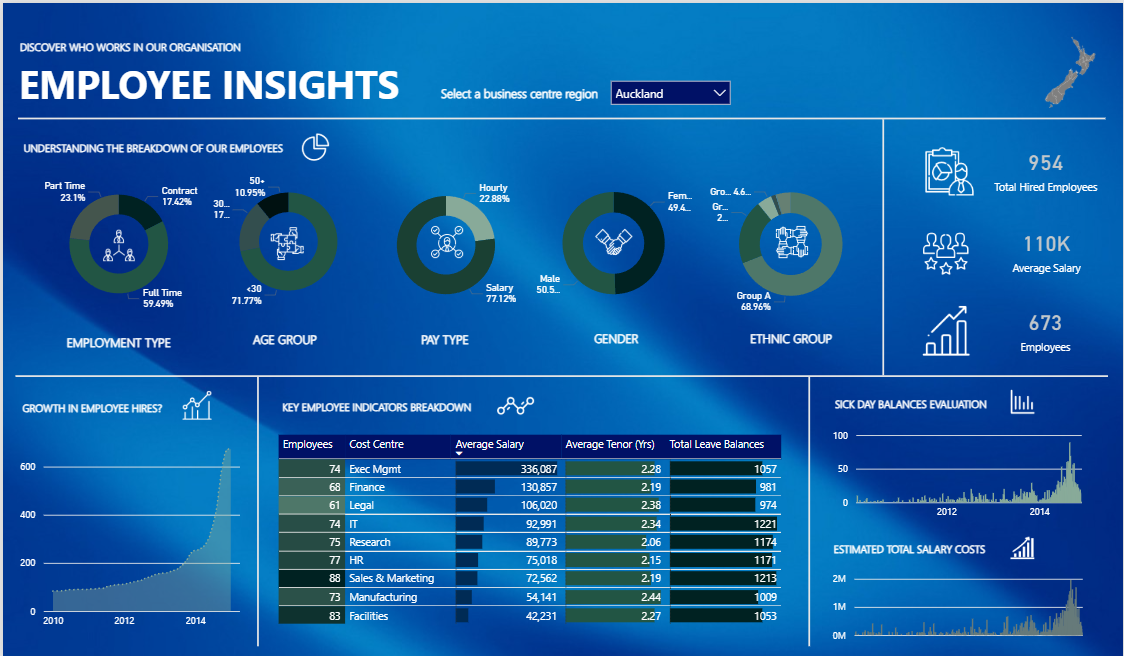

The dashboard page shown, as its layout file describes it:
{"tool":"powerbi","page":{"name":"Page 1","canvas":[1280,720],"ordinal":0},"visuals":[{"type":"image","box":[1153.7,0,119.9,96.6],"z":0},{"type":"textbox","box":[12.7,28.7,476.6,72.2],"z":1},{"type":"donutChart","fields":{"Y":["Key Metrics.Total Salary Cost"],"Category":["Employee Data.EthnicGroup"]},"box":[802.4,149.7,195.3,194.2],"z":2},{"type":"donutChart","fields":{"Y":["Key Metrics.Total Salary Cost"],"Category":["Employee Data.Gender"]},"box":[601.8,149.7,193.2,192.1],"z":3},{"type":"donutChart","fields":{"Y":["Key Metrics.Total Salary Cost"],"Category":["Employee Data.PayType"]},"box":[411.8,148.6,190,199.5],"z":4},{"type":"areaChart","fields":{"Category":["Date Table.Date"],"Y":["Key Metrics.Total Firm Hires"]},"box":[14.9,459.6,263.2,234.6],"z":5},{"type":"card","fields":{"Values":["Key Metrics.Total Hired Employees"]},"box":[1122.7,125.9,138,71.1],"z":6},{"type":"card","fields":{"Values":["Key Metrics.Average Salary"]},"box":[1130.8,218.2,122.8,71.1],"z":7},{"type":"card","fields":{"Values":["Key Metrics.Total Firm Hires"]},"box":[1135.9,310.6,111.7,68],"z":8},{"type":"textbox","box":[314.2,417.1,252.6,36.1],"z":9},{"type":"textbox","box":[14.9,6.4,289.8,36.1],"z":10},{"type":"textbox","box":[468.1,60.5,216.5,35],"z":11},{"type":"textbox","box":[944.6,579.5,238.8,36.1],"z":12},{"type":"textbox","box":[945.7,415,238.8,36.1],"z":13},{"type":"textbox","box":[19.1,122.1,336.5,35],"z":14},{"type":"textbox","box":[17,419.2,191,36.1],"z":15},{"type":"tableEx","fields":{"Values":["Key Metrics.Total Firm Hires","Employee Data.Cost Centre","Key Metrics.Average Salary","Key Metrics.Average Tenor","Key Metrics.Total Leave Balances"]},"box":[308.9,459.6,602.9,240.9],"z":16},{"type":"basicShape","box":[4.6,388.3,1268.6,18.5],"z":17},{"type":"basicShape","box":[985.6,94.4,40.6,312.6],"z":18},{"type":"basicShape","box":[903.2,388.5,37.1,328],"z":19},{"type":"basicShape","box":[272.4,388.3,37.1,328],"z":20},{"type":"basicShape","box":[7.1,94.4,1262.7,18.3],"z":21},{"type":"slicer","fields":{"Values":["Employee Data.Business Unit"]},"box":[684.6,49.9,157.1,46.7],"z":22},{"type":"textbox","box":[58.4,343.9,147.5,36.1],"z":23},{"type":"textbox","box":[445.8,341.8,118.9,36.1],"z":24},{"type":"textbox","box":[641.1,340.7,118.9,36.1],"z":25},{"type":"textbox","box":[841.7,339.6,118.9,36.1],"z":26},{"type":"textbox","box":[262.2,341.8,118.9,36.1],"z":27},{"type":"image","box":[1035.9,131.6,91.3,64.7],"z":28},{"type":"image","box":[1034.8,313.1,87,66.9],"z":29},{"type":"image","box":[1044.4,227.1,66.9,61.6],"z":30},{"type":"image","box":[106.1,225,54.1,45.6],"z":31},{"type":"image","box":[665.5,218.6,64.7,52],"z":32},{"type":"image","box":[289.8,222.9,70,47.8],"z":33},{"type":"image","box":[866.1,221.8,72.2,46.7],"z":34},{"type":"image","box":[477.6,221.8,60.5,46.7],"z":35},{"type":"image","box":[541.3,405.4,89.2,52],"z":36},{"type":"image","box":[188.9,409.7,66.9,42.5],"z":37},{"type":"image","box":[326.9,115.7,60.5,41.4],"z":38},{"type":"image","box":[1128.2,407.6,73.2,40.3],"z":39},{"type":"image","box":[1131.4,575.3,67.9,37.1],"z":40},{"type":"donutChart","fields":{"Y":["Key Metrics.Total Salary Cost"],"Category":["Employee Data.AgeGroup"]},"box":[231.8,144.7,189.9,199.8],"z":41},{"type":"donutChart","fields":{"Y":["Key Metrics.Total Salary Cost"],"Category":["Employee Data.Work Type"]},"box":[37,147.2,190.7,199.8],"z":42},{"type":"columnChart","fields":{"Category":["Date Table.Date"],"Y":["Key Metrics.Total Sick Days"]},"box":[942.5,452.1,306.7,118.9],"z":43},{"type":"columnChart","fields":{"Category":["Date Table.Date"],"Y":["Key Metrics.Total Salary Cost"]},"box":[943.5,615.6,296.1,91.3],"z":44}]}

Visuals, with their boxes on the page's 1280x720 design canvas (x1, y1, x2, y2). These are canvas units, not pixel positions in the 1124x656 screenshot, which may show the page scaled, cropped or inside an application window:
image: <region>1154, 0, 1274, 97</region>
textbox: <region>13, 29, 489, 101</region>
donutChart - Key Metrics.Total Salary Cost x Employee Data.EthnicGroup: <region>802, 150, 998, 344</region>
donutChart - Key Metrics.Total Salary Cost x Employee Data.Gender: <region>602, 150, 795, 342</region>
donutChart - Key Metrics.Total Salary Cost x Employee Data.PayType: <region>412, 149, 602, 348</region>
areaChart - Date Table.Date x Key Metrics.Total Firm Hires: <region>15, 460, 278, 694</region>
card - Key Metrics.Total Hired Employees: <region>1123, 126, 1261, 197</region>
card - Key Metrics.Average Salary: <region>1131, 218, 1254, 289</region>
card - Key Metrics.Total Firm Hires: <region>1136, 311, 1248, 379</region>
textbox: <region>314, 417, 567, 453</region>
textbox: <region>15, 6, 305, 42</region>
textbox: <region>468, 60, 685, 96</region>
textbox: <region>945, 580, 1183, 616</region>
textbox: <region>946, 415, 1184, 451</region>
textbox: <region>19, 122, 356, 157</region>
textbox: <region>17, 419, 208, 455</region>
tableEx - Key Metrics.Total Firm Hires x Employee Data.Cost Centre: <region>309, 460, 912, 700</region>
basicShape: <region>5, 388, 1273, 407</region>
basicShape: <region>986, 94, 1026, 407</region>
basicShape: <region>903, 388, 940, 716</region>
basicShape: <region>272, 388, 310, 716</region>
basicShape: <region>7, 94, 1270, 113</region>
slicer - Employee Data.Business Unit: <region>685, 50, 842, 97</region>
textbox: <region>58, 344, 206, 380</region>
textbox: <region>446, 342, 565, 378</region>
textbox: <region>641, 341, 760, 377</region>
textbox: <region>842, 340, 961, 376</region>
textbox: <region>262, 342, 381, 378</region>
image: <region>1036, 132, 1127, 196</region>
image: <region>1035, 313, 1122, 380</region>
image: <region>1044, 227, 1111, 289</region>
image: <region>106, 225, 160, 271</region>
image: <region>666, 219, 730, 271</region>
image: <region>290, 223, 360, 271</region>
image: <region>866, 222, 938, 268</region>
image: <region>478, 222, 538, 268</region>
image: <region>541, 405, 630, 457</region>
image: <region>189, 410, 256, 452</region>
image: <region>327, 116, 387, 157</region>
image: <region>1128, 408, 1201, 448</region>
image: <region>1131, 575, 1199, 612</region>
donutChart - Key Metrics.Total Salary Cost x Employee Data.AgeGroup: <region>232, 145, 422, 344</region>
donutChart - Key Metrics.Total Salary Cost x Employee Data.Work Type: <region>37, 147, 228, 347</region>
columnChart - Date Table.Date x Key Metrics.Total Sick Days: <region>942, 452, 1249, 571</region>
columnChart - Date Table.Date x Key Metrics.Total Salary Cost: <region>944, 616, 1240, 707</region>
